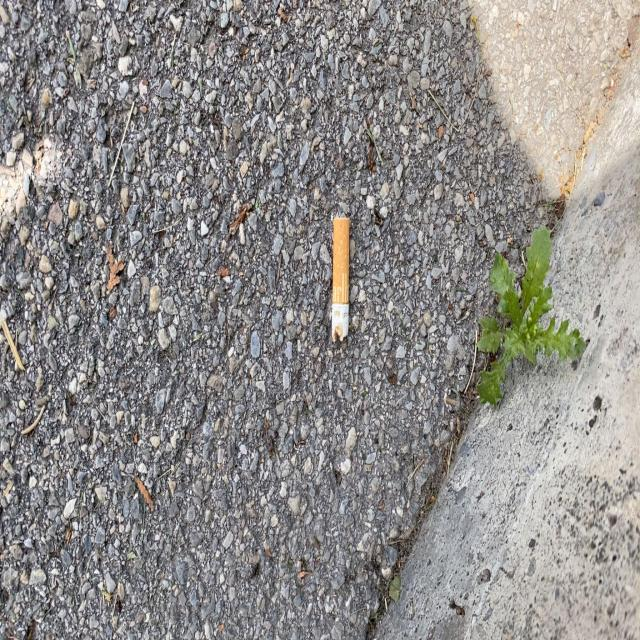other waste: (331, 213, 350, 348)
